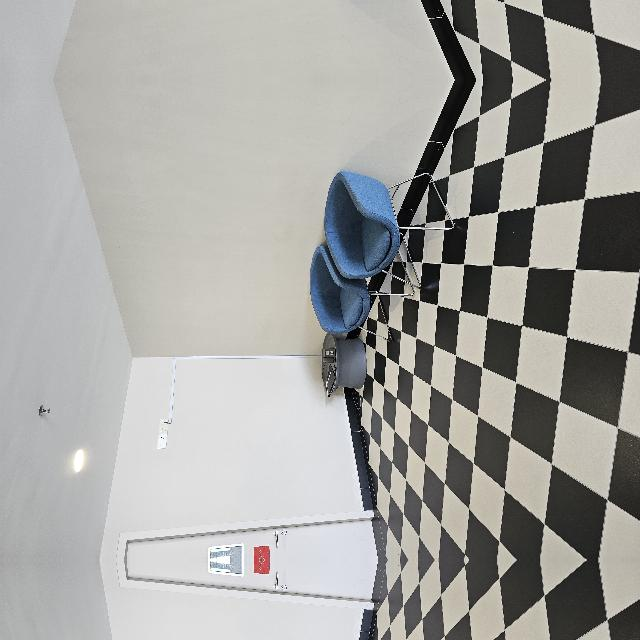obstacle: (168, 390, 386, 532), (168, 588, 385, 640)
